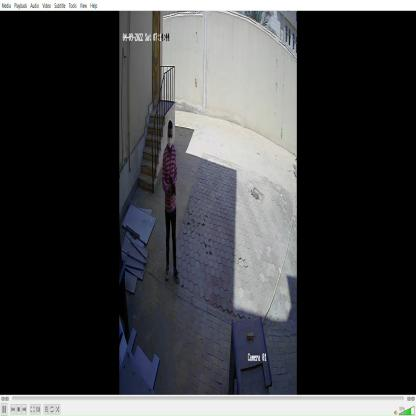handgun: (167, 169, 178, 204)
